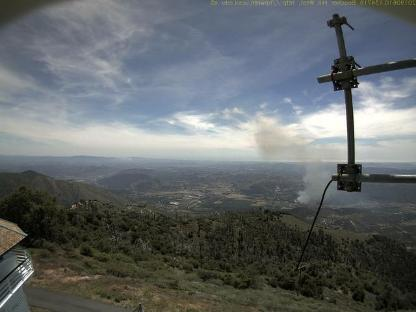smoke: (252, 111, 334, 202)
